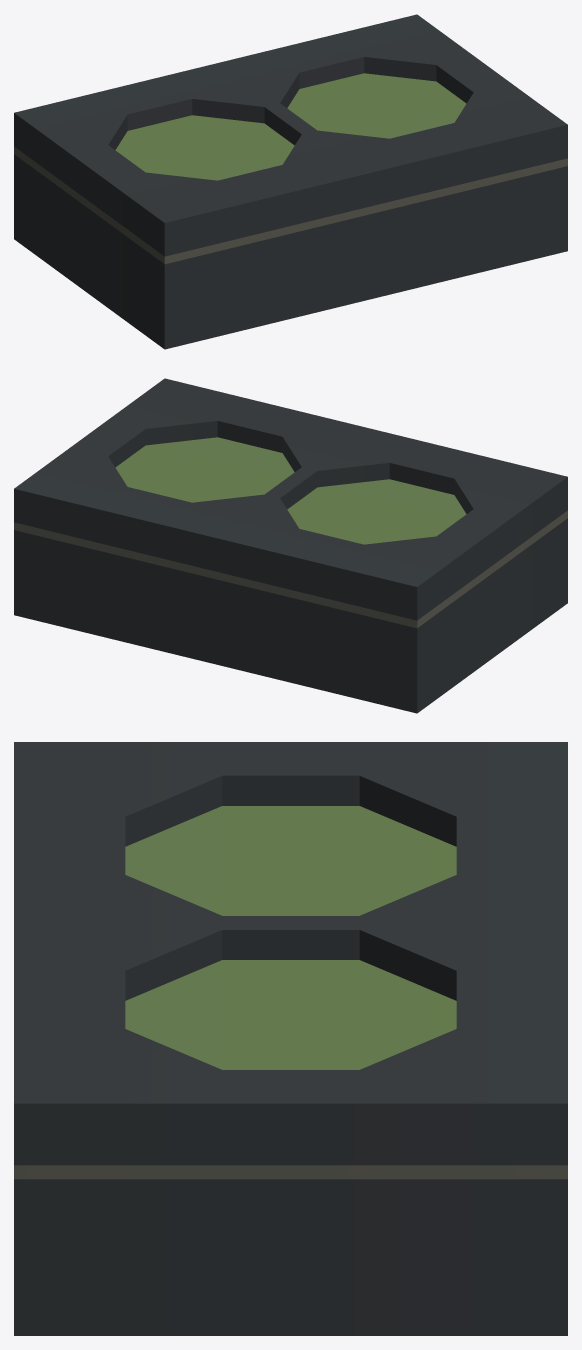
The model's file is HousePart_04.fbx.
The picture shows the model from 3 angles, top to bottom: view 1: azimuth 30°, elevation 25°; view 2: azimuth 150°, elevation 25°; view 3: azimuth 270°, elevation 25°; orthographic projection. The views are drawn at different scales.
Parts seen in each view (by area): view 1: HousePart_04; view 2: HousePart_04; view 3: HousePart_04.
Boxes of the visible parts, bbox=[...] form: HousePart_04: bbox=[14, 14, 567, 349]; HousePart_04: bbox=[14, 378, 567, 713]; HousePart_04: bbox=[14, 742, 567, 1335].
Bounding box in the file's own units: 1.08 × 0.3243 × 0.7009.
